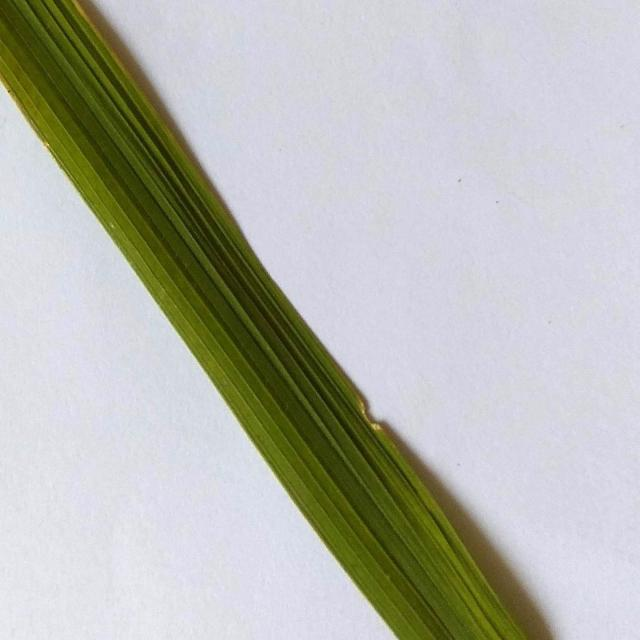healthy: (0, 6, 532, 640)
